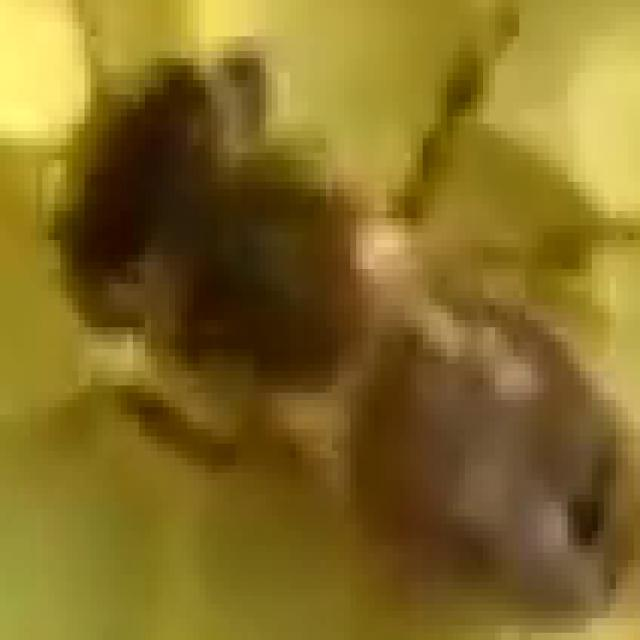honeybee: (33, 56, 596, 578)
